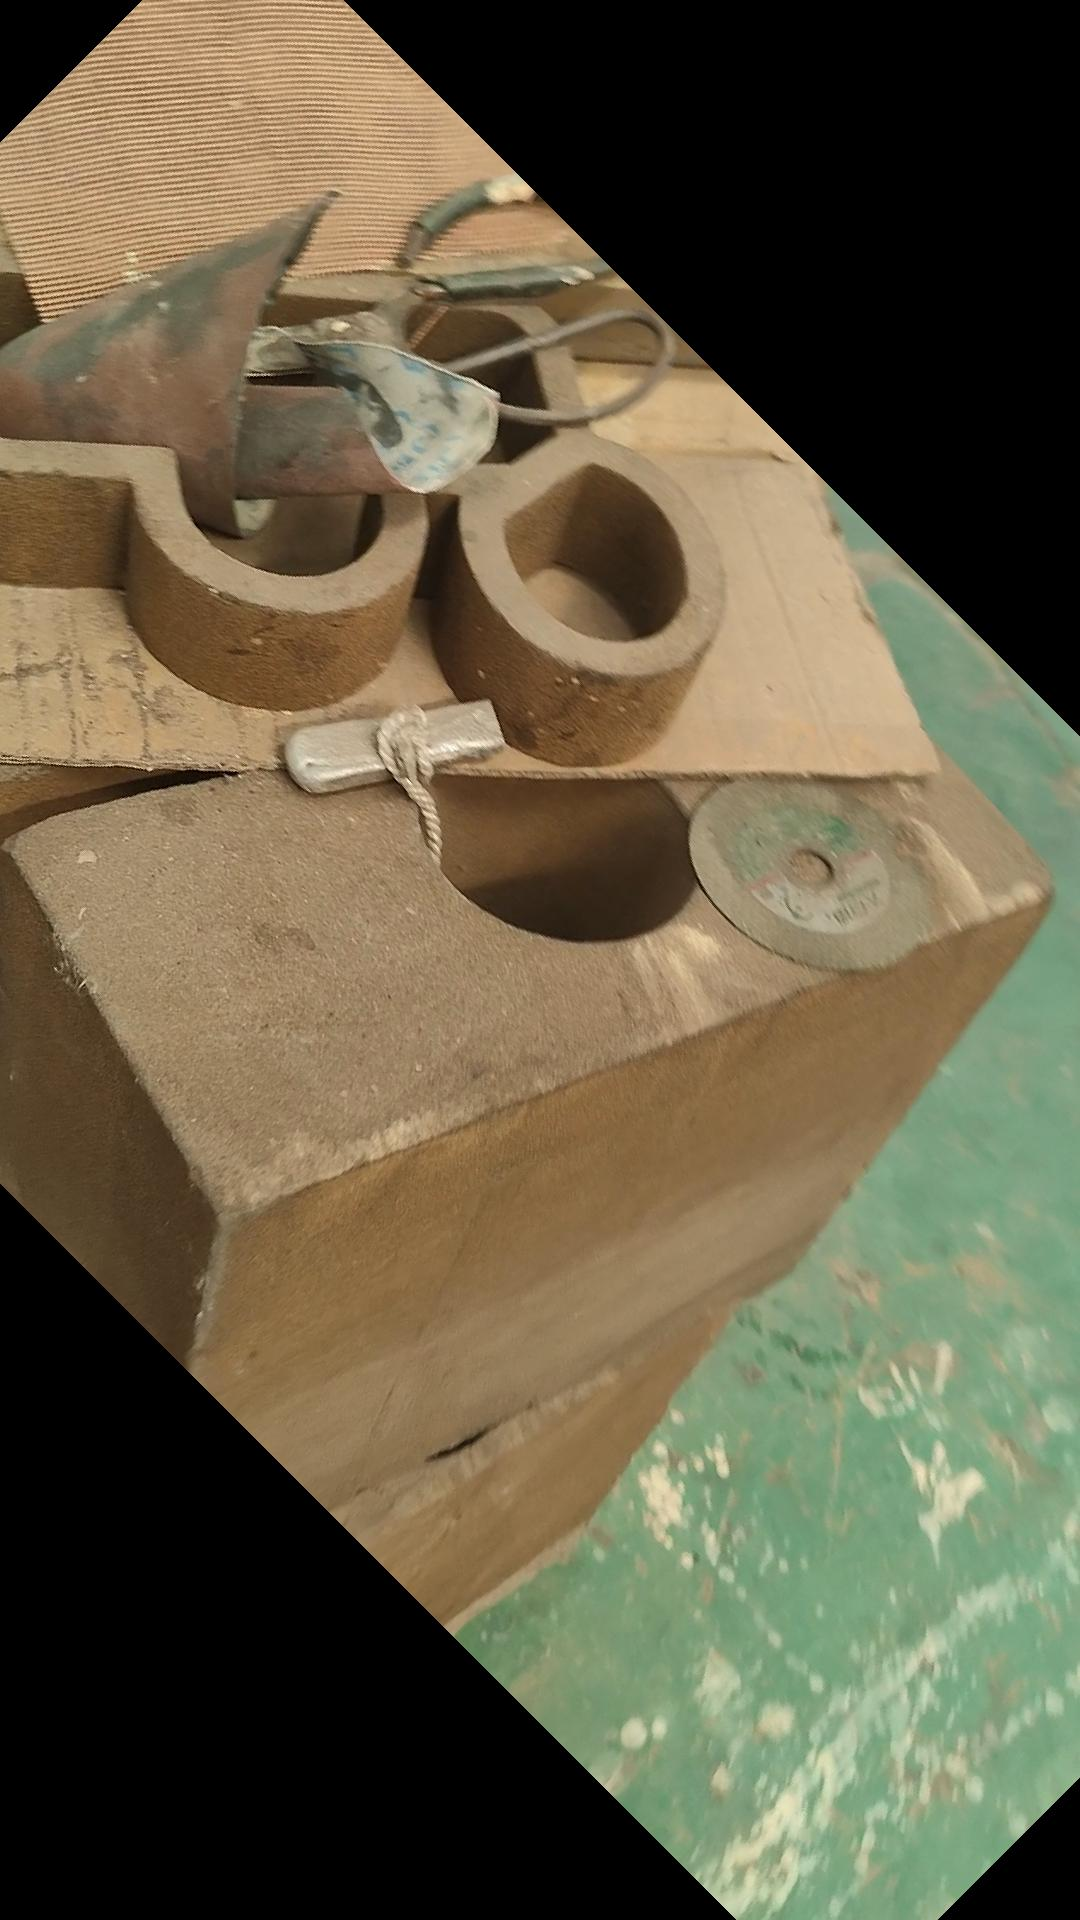pouring hole: (418, 741, 702, 945)
